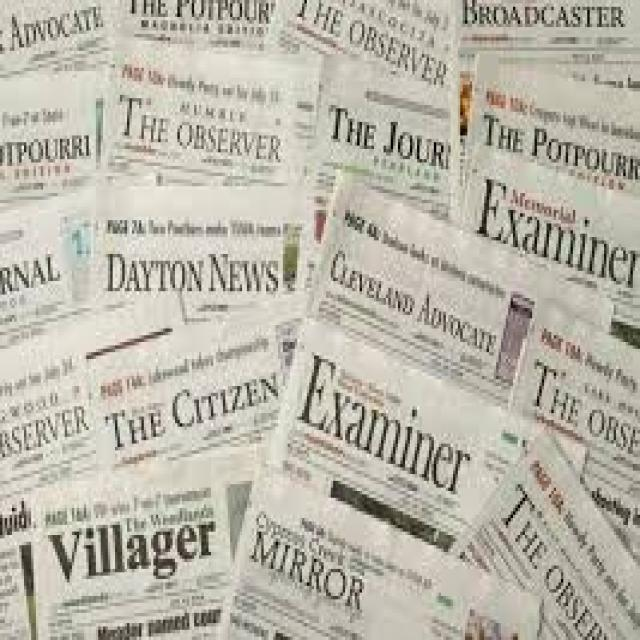paper: (0, 0, 638, 637), (262, 312, 588, 572), (302, 166, 611, 420), (216, 461, 539, 637), (26, 437, 266, 637), (444, 430, 638, 637), (450, 0, 637, 213), (460, 139, 638, 342), (506, 295, 638, 549), (79, 311, 276, 464), (93, 34, 307, 173), (91, 176, 305, 312), (307, 44, 448, 224), (463, 51, 638, 176), (0, 312, 89, 474), (276, 0, 453, 78), (0, 183, 91, 322), (0, 71, 93, 179), (96, 0, 273, 44), (0, 0, 96, 71), (0, 480, 26, 636)
